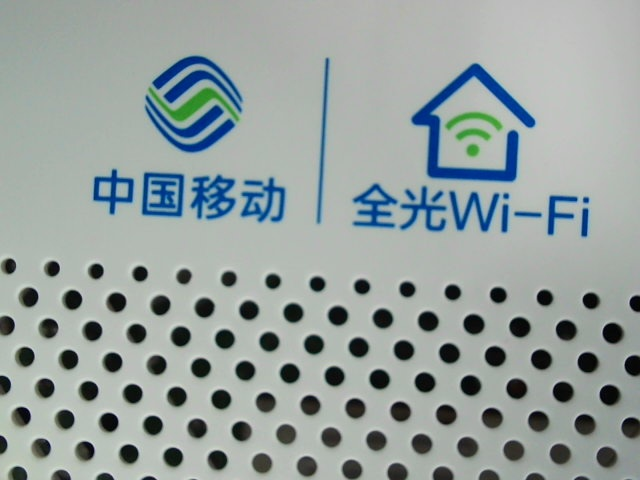BJ_QuanGuangMobile: (76, 46, 592, 237)
